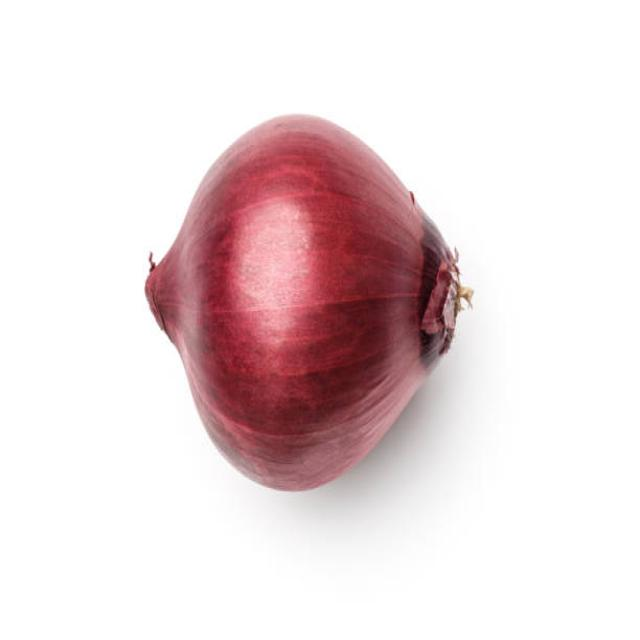onion: (152, 93, 461, 501)
